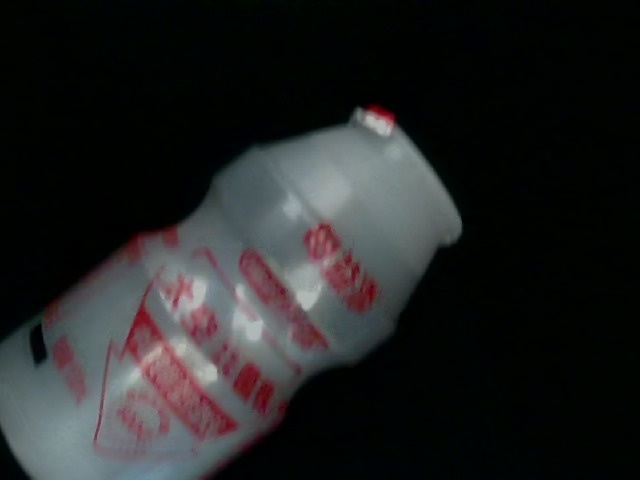CYLJ: (219, 420, 318, 480)
